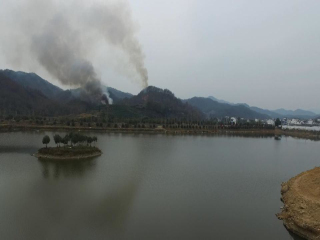smoke: (34, 10, 154, 105)
